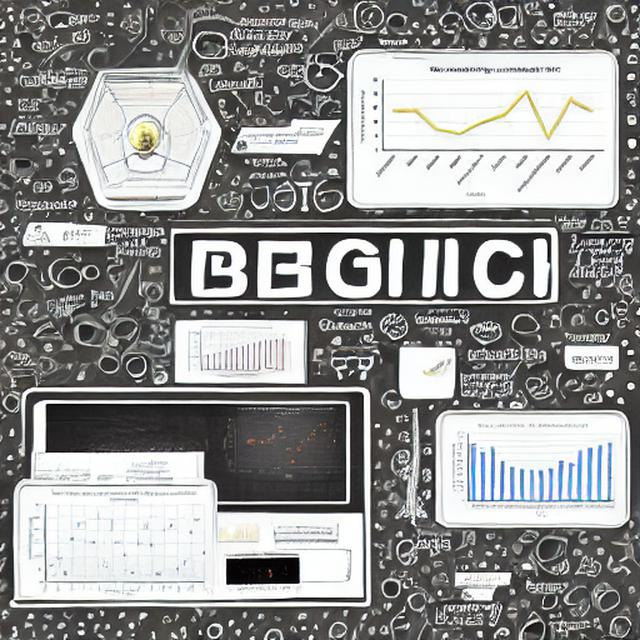Graph: (358, 64, 609, 204), (26, 489, 210, 597), (447, 420, 618, 519), (218, 404, 346, 480), (185, 324, 288, 379), (211, 517, 261, 546)
